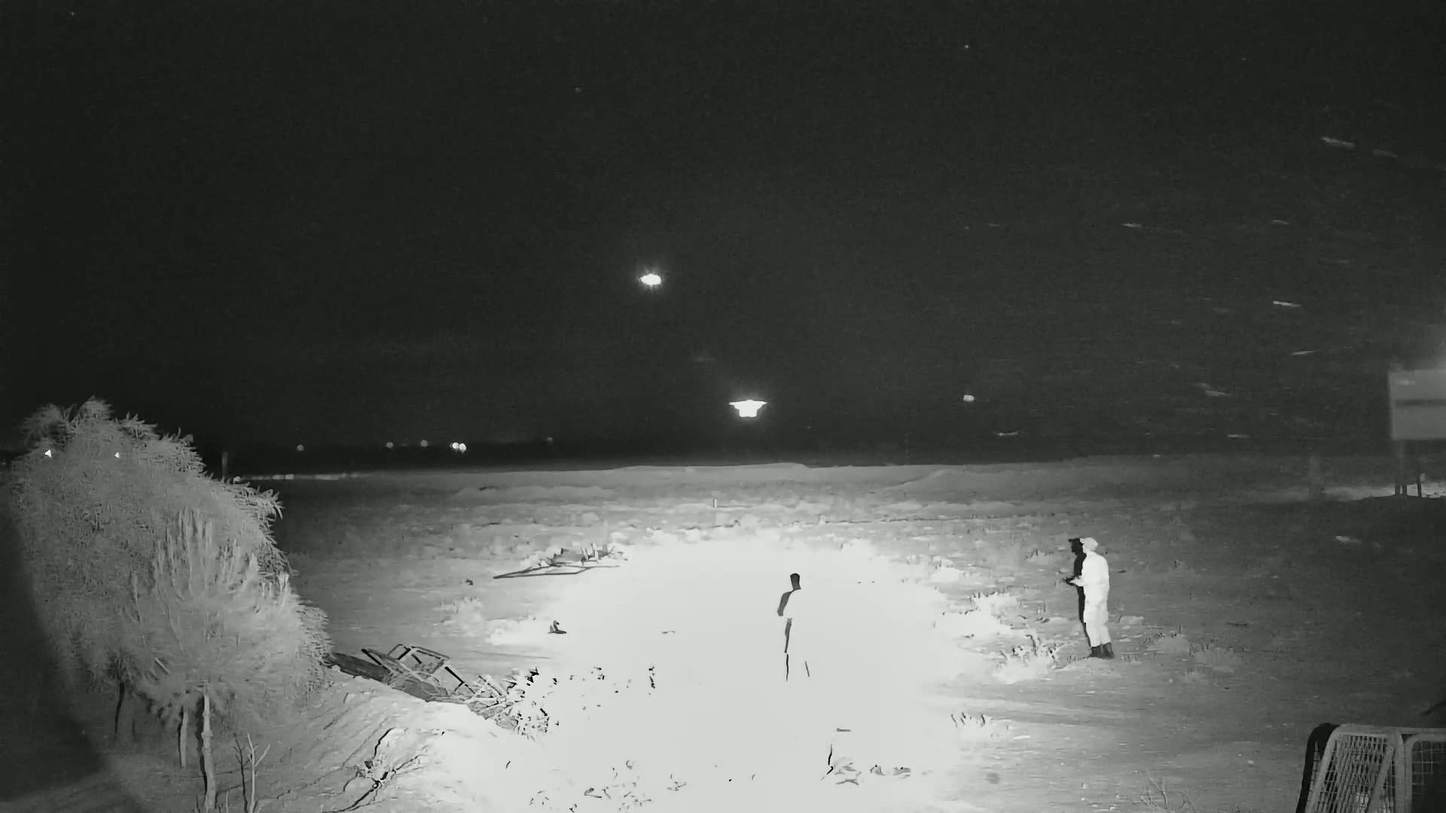DJI-Phantom: (727, 398, 768, 420), (639, 269, 665, 291)
